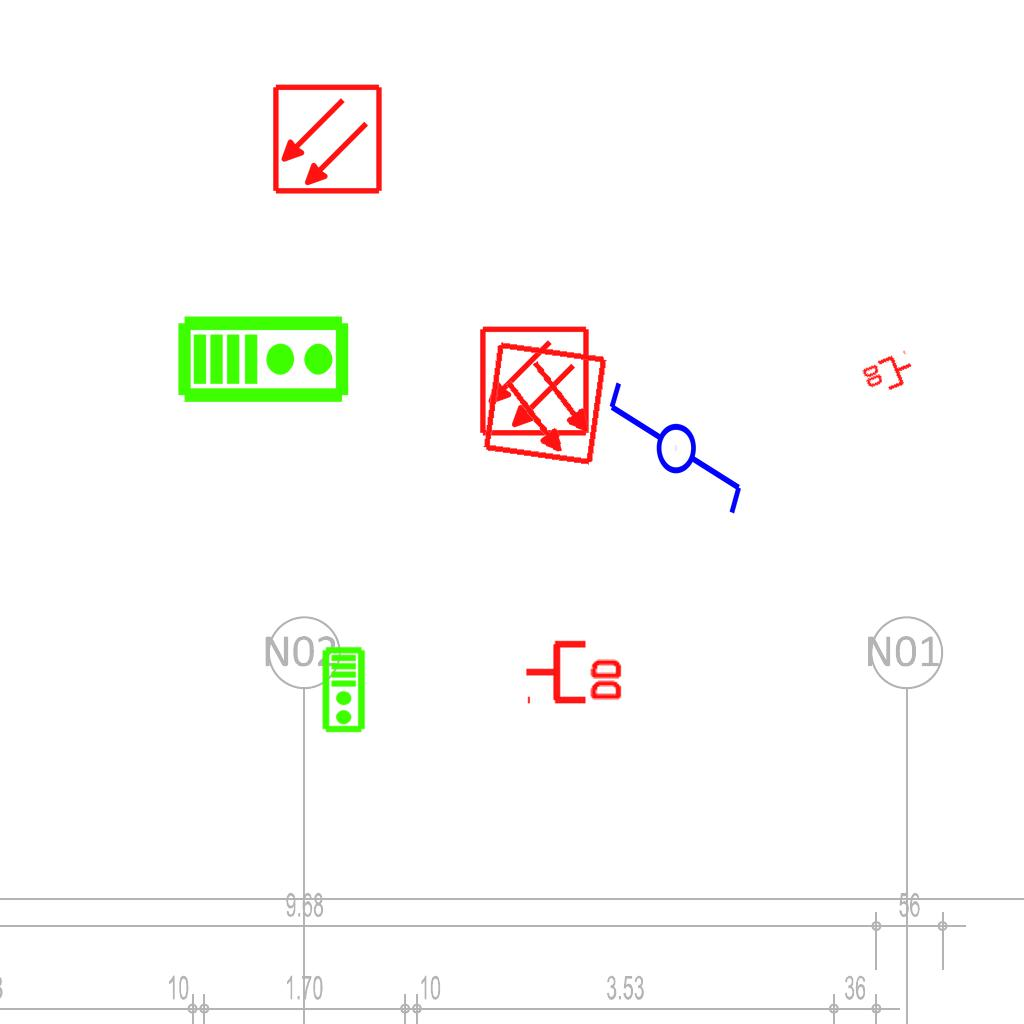Datenanschluss_zweifach: (523, 636, 626, 705), (858, 349, 920, 400)
Gegensprechanlage_mit_Video: (176, 310, 352, 405), (321, 646, 368, 734)
RMO_Rauchmelder_optischer: (481, 339, 610, 468), (478, 325, 591, 438), (271, 83, 384, 196)
Wechselschalter: (602, 378, 746, 535)
